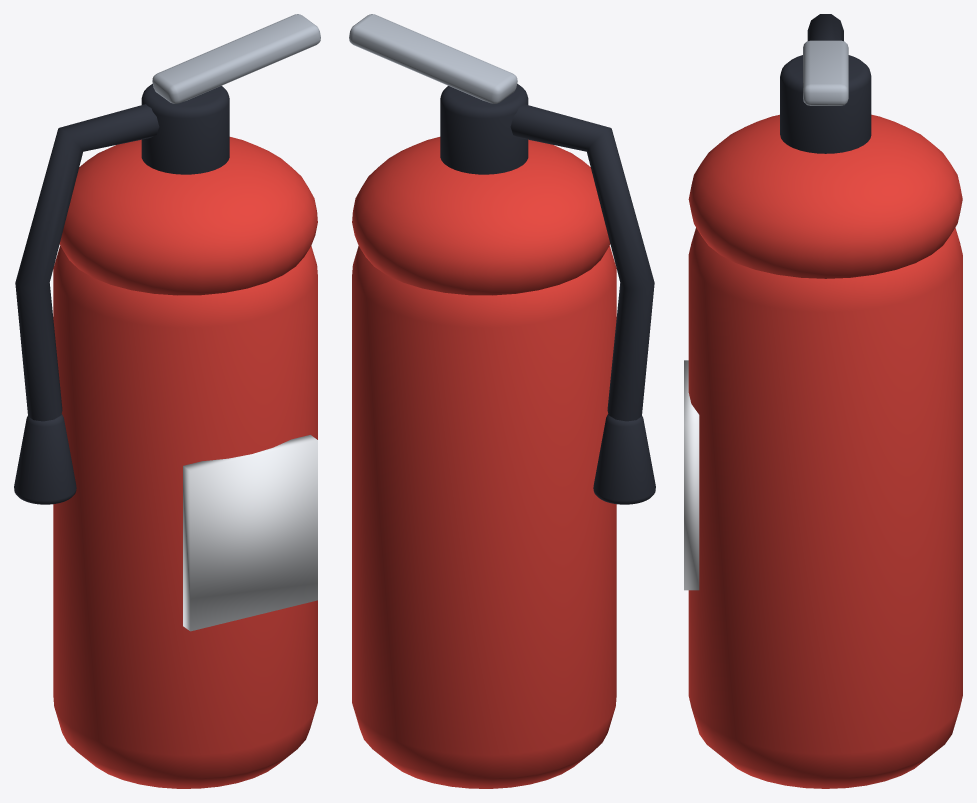
The model's file is Item_Extinguisher.glb.
3 renders of one model, left to right at view 1: azimuth 30°, elevation 25°; view 2: azimuth 150°, elevation 25°; view 3: azimuth 270°, elevation 25°, orthographic. The views are drawn at different scales.
Visible parts, largest first — view 1: Item_Extinguisher.Body, Item_Extinguisher.Top, Item_Extinguisher.Label, Item_Extinguisher.Hose, Item_Extinguisher.Valve, Item_Extinguisher.Lever, Item_Extinguisher.Nozzle; view 2: Item_Extinguisher.Body, Item_Extinguisher.Top, Item_Extinguisher.Hose, Item_Extinguisher.Valve, Item_Extinguisher.Lever, Item_Extinguisher.Nozzle; view 3: Item_Extinguisher.Body, Item_Extinguisher.Top, Item_Extinguisher.Valve, Item_Extinguisher.Label, Item_Extinguisher.Lever, Item_Extinguisher.Hose.
Boxes of the visible parts, <box> form: Item_Extinguisher.Body: <box>53,245,317,788</box>; Item_Extinguisher.Top: <box>59,137,317,295</box>; Item_Extinguisher.Label: <box>183,435,317,631</box>; Item_Extinguisher.Hose: <box>15,104,159,421</box>; Item_Extinguisher.Valve: <box>141,84,229,174</box>; Item_Extinguisher.Lever: <box>152,14,320,103</box>; Item_Extinguisher.Nozzle: <box>14,414,76,504</box>; Item_Extinguisher.Body: <box>352,245,616,788</box>; Item_Extinguisher.Top: <box>352,137,610,295</box>; Item_Extinguisher.Hose: <box>510,104,654,421</box>; Item_Extinguisher.Valve: <box>440,84,528,174</box>; Item_Extinguisher.Lever: <box>349,14,517,103</box>; Item_Extinguisher.Nozzle: <box>593,414,655,504</box>; Item_Extinguisher.Body: <box>688,227,962,788</box>; Item_Extinguisher.Top: <box>688,114,962,278</box>; Item_Extinguisher.Valve: <box>780,55,871,153</box>; Item_Extinguisher.Label: <box>684,360,699,590</box>; Item_Extinguisher.Lever: <box>803,40,848,105</box>; Item_Extinguisher.Hose: <box>807,14,843,41</box>.
Size of the model in its own units: 0.2309 by 0.5269 by 0.183.
